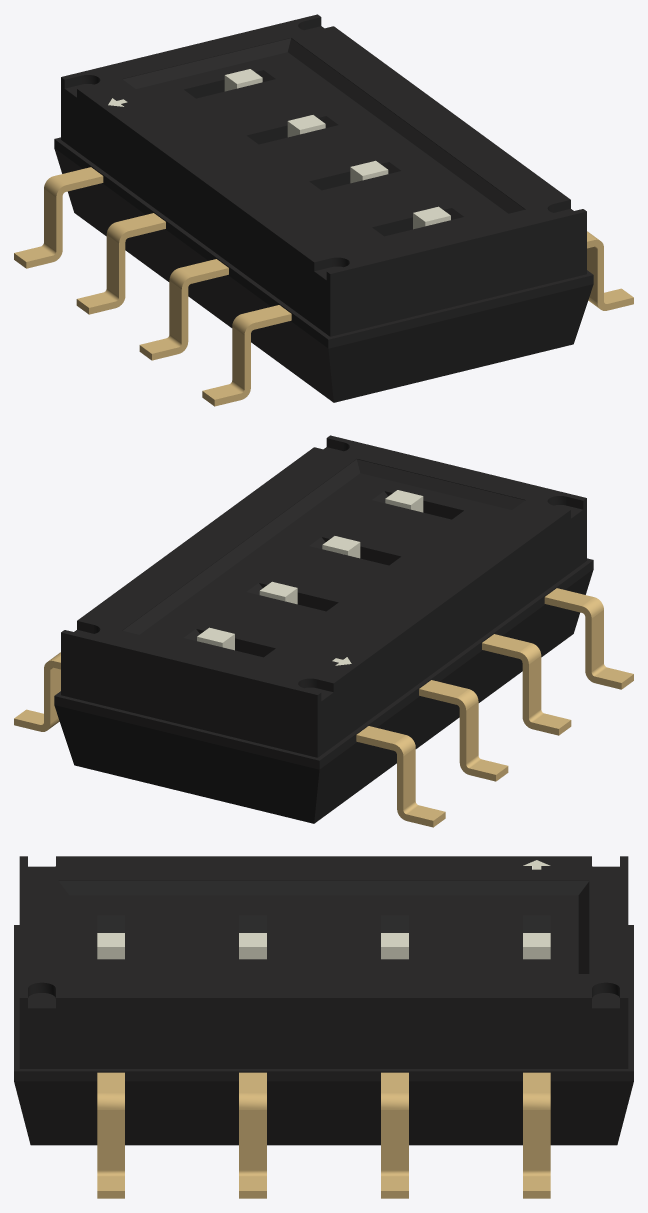
File: kc-sw_dip_spstx04_slide_omron_a6s-410x_w8.9mm_p2.54mm.glb
3 views of the same model, one above another, from view 1: azimuth 30°, elevation 25°; view 2: azimuth 150°, elevation 25°; view 3: azimuth 270°, elevation 25° (orthographic). The views are drawn at different scales.
Parts seen in each view (by area): view 1: 0_0_0_0, 0.75_0.5_0.25_0.9, 0.75_0.75_0.6666666666666666_0; view 2: 0_0_0_0, 0.75_0.5_0.25_0.9, 0.75_0.75_0.6666666666666666_0; view 3: 0_0_0_0, 0.75_0.5_0.25_0.9, 0.75_0.75_0.6666666666666666_0.
Boxes of the visible parts, box(x1,y1,x2,y2) form: 0_0_0_0: box(54, 14, 593, 402); 0.75_0.5_0.25_0.9: box(14, 167, 633, 406); 0.75_0.75_0.6666666666666666_0: box(108, 69, 450, 229); 0_0_0_0: box(54, 435, 593, 823); 0.75_0.5_0.25_0.9: box(14, 588, 633, 827); 0.75_0.75_0.6666666666666666_0: box(197, 490, 423, 665); 0_0_0_0: box(14, 856, 633, 1145); 0.75_0.5_0.25_0.9: box(97, 1072, 550, 1198); 0.75_0.75_0.6666666666666666_0: box(97, 860, 550, 959).
Size of the model in its own units: 0.98 by 0.3075 by 1.11.
